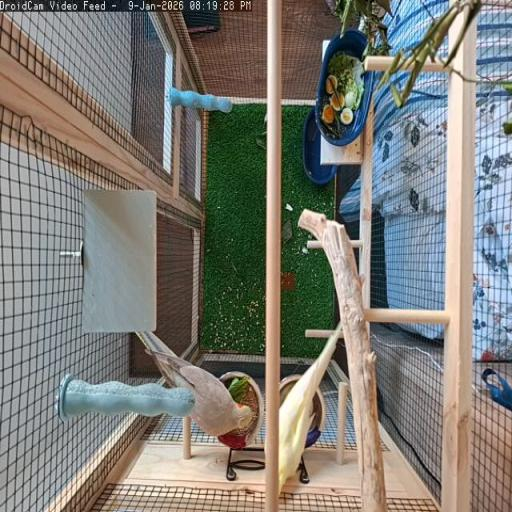bebedero: (306, 387, 326, 447), (280, 374, 299, 403), (301, 471, 306, 482)
comedero: (218, 372, 263, 449)
ninfa: (137, 332, 250, 435), (278, 321, 343, 492)
